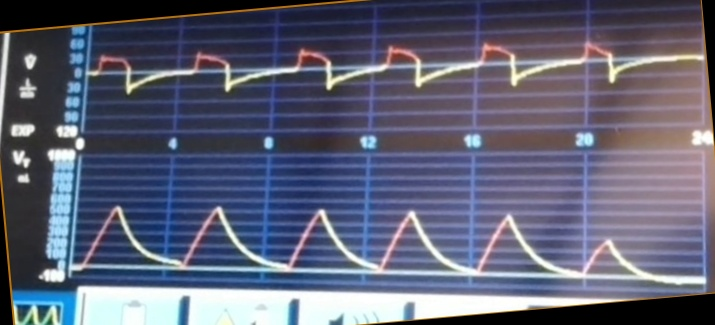Normal Flow: (91, 29, 704, 117)
Normal Volume: (78, 191, 704, 285)
